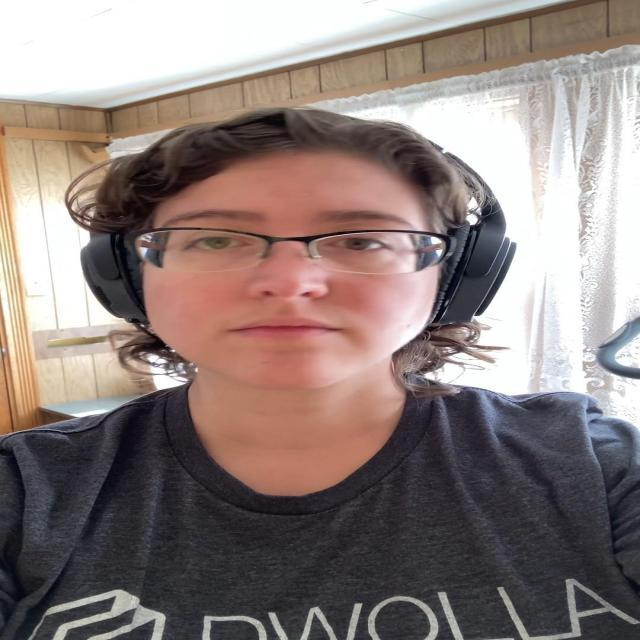no hat: (124, 130, 437, 420)
